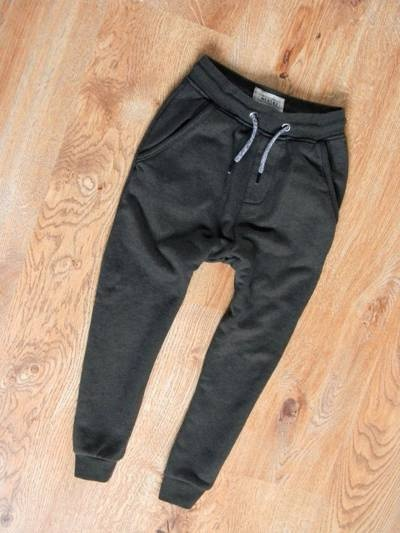Pants: (35, 27, 368, 496)
